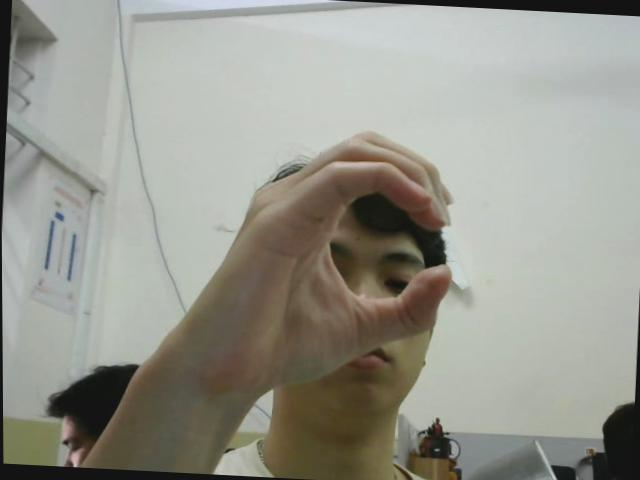C: (209, 122, 460, 402)
